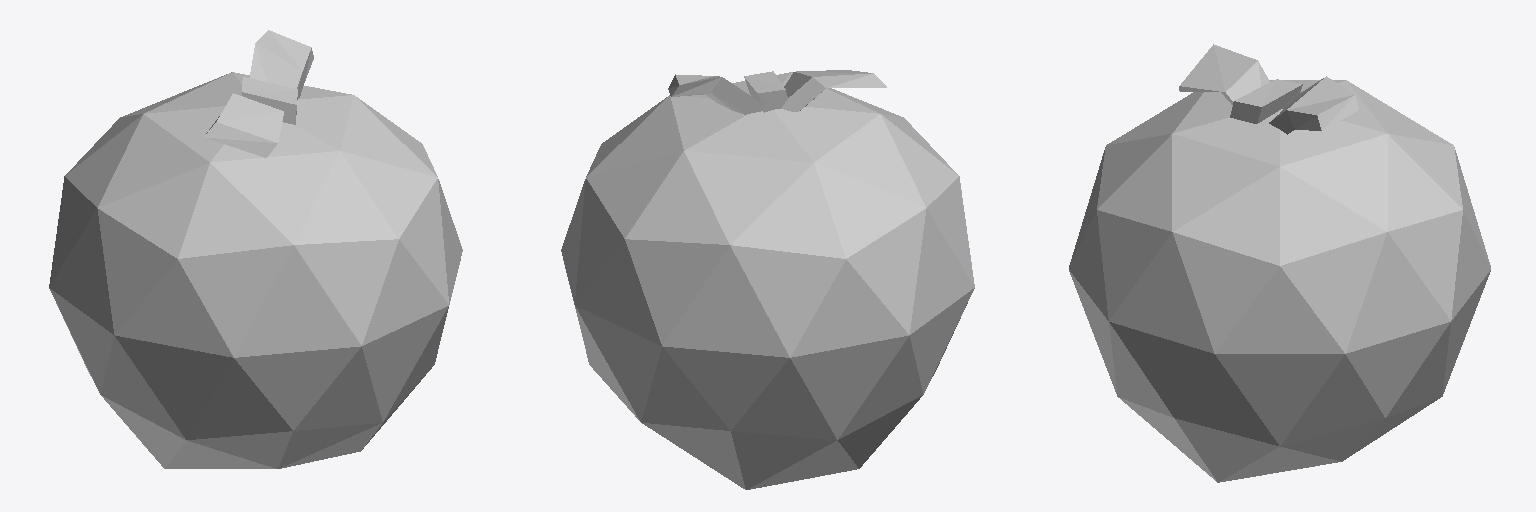
The model's file is Fruit_Orange.obj.
3 views of the same model, side by side, from view 1: azimuth 30°, elevation 25°; view 2: azimuth 150°, elevation 25°; view 3: azimuth 270°, elevation 25° (orthographic).
Visible parts, largest first — view 1: Fruit_Orange; view 2: Fruit_Orange; view 3: Fruit_Orange.
Part boxes in pixels (x1,y1,x2,y2): Fruit_Orange: (49,30,462,468); Fruit_Orange: (561,70,974,489); Fruit_Orange: (1069,44,1490,482).
Bounding box in the file's own units: 0.1002 × 0.1048 × 0.1054.